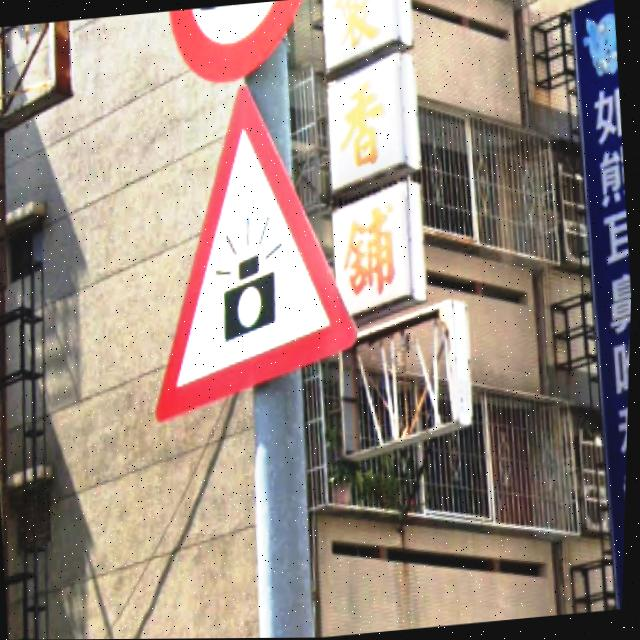speedcamera: (157, 85, 360, 426)
